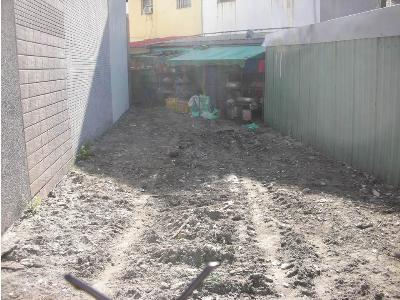plastic_bag: (166, 45, 267, 68)
